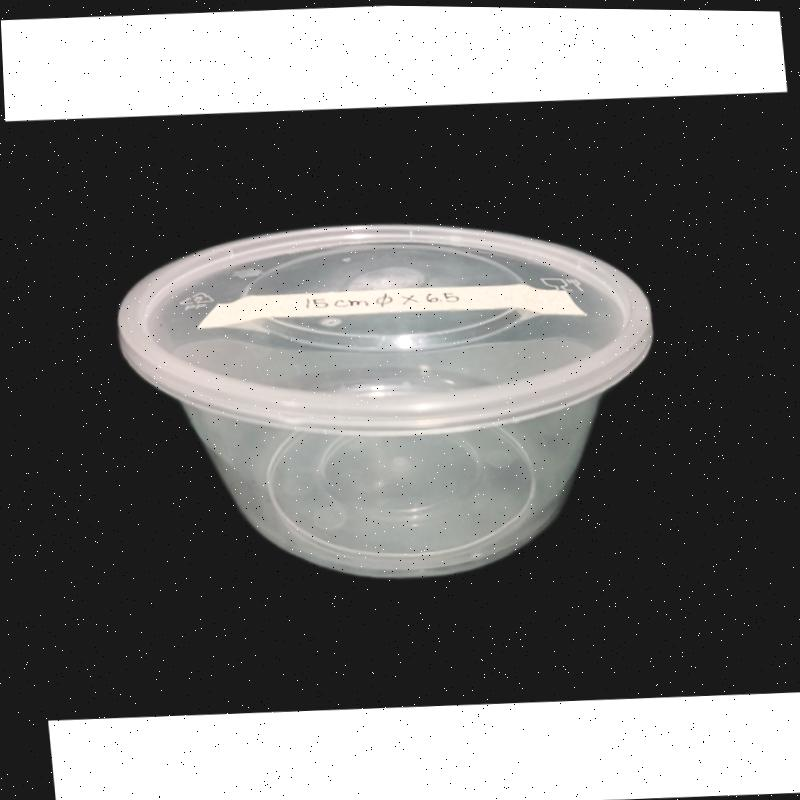plastic container: (116, 225, 657, 585)
